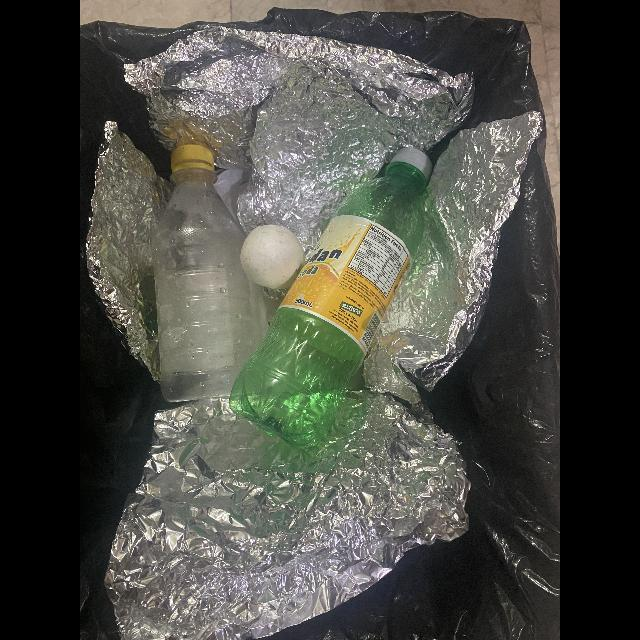biowaste: (240, 225, 306, 289)
metal: (108, 392, 470, 640), (124, 29, 474, 249), (365, 112, 543, 406), (87, 121, 172, 377)
plastic: (229, 146, 433, 449), (152, 145, 253, 403)
